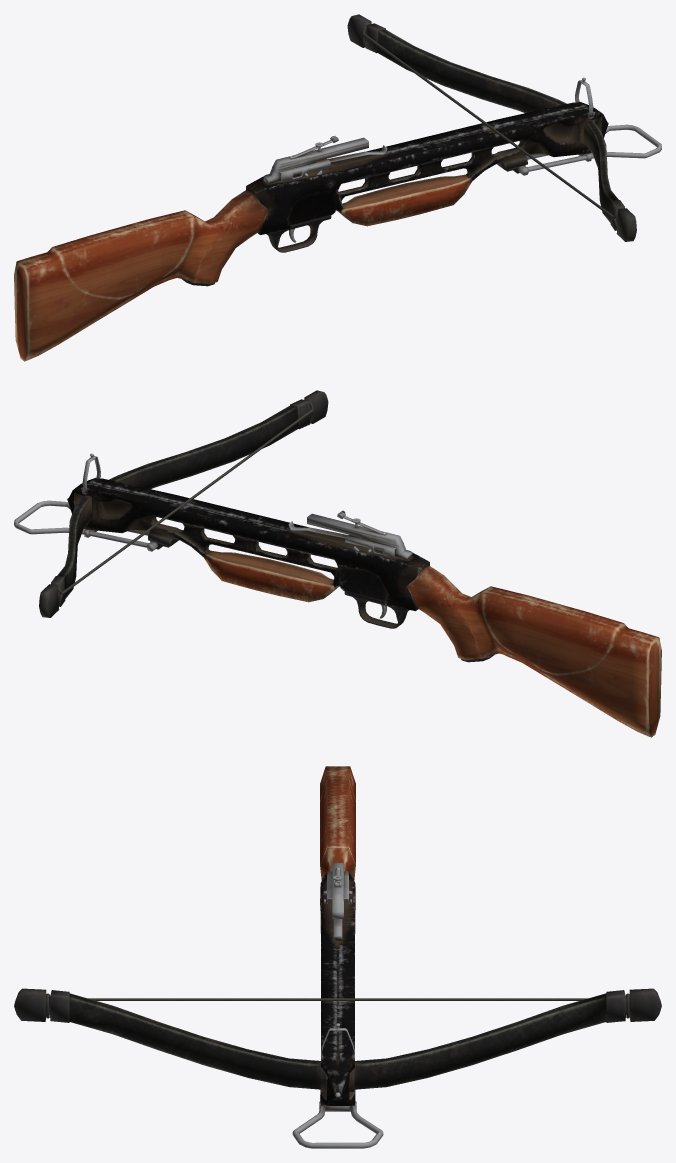
File: crossbow-mk-150-a1-a94d81.glb
The picture shows the model from 3 angles, top to bottom: view 1: azimuth 30°, elevation 25°; view 2: azimuth 150°, elevation 25°; view 3: azimuth 270°, elevation 25°; orthographic projection. The views are drawn at different scales.
Visible parts, largest first — view 1: PropMesh; view 2: PropMesh; view 3: PropMesh.
Part boxes in pixels (x1=…): PropMesh: x1=14, y1=14, x2=661, y2=361; PropMesh: x1=14, y1=390, x2=661, y2=737; PropMesh: x1=14, y1=766, x2=661, y2=1148.
Bounding box in the file's own units: 0.9 × 0.2031 × 0.7003.
1 material, 1 textured.
